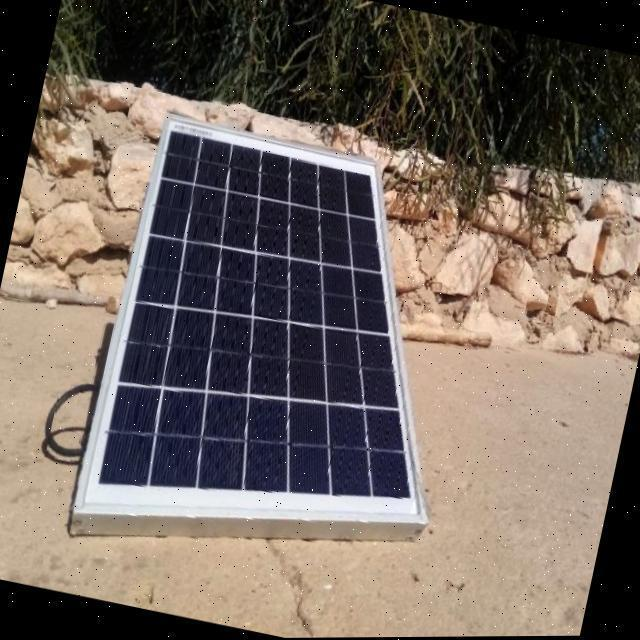Normal Solar Panel: (70, 112, 496, 588)
